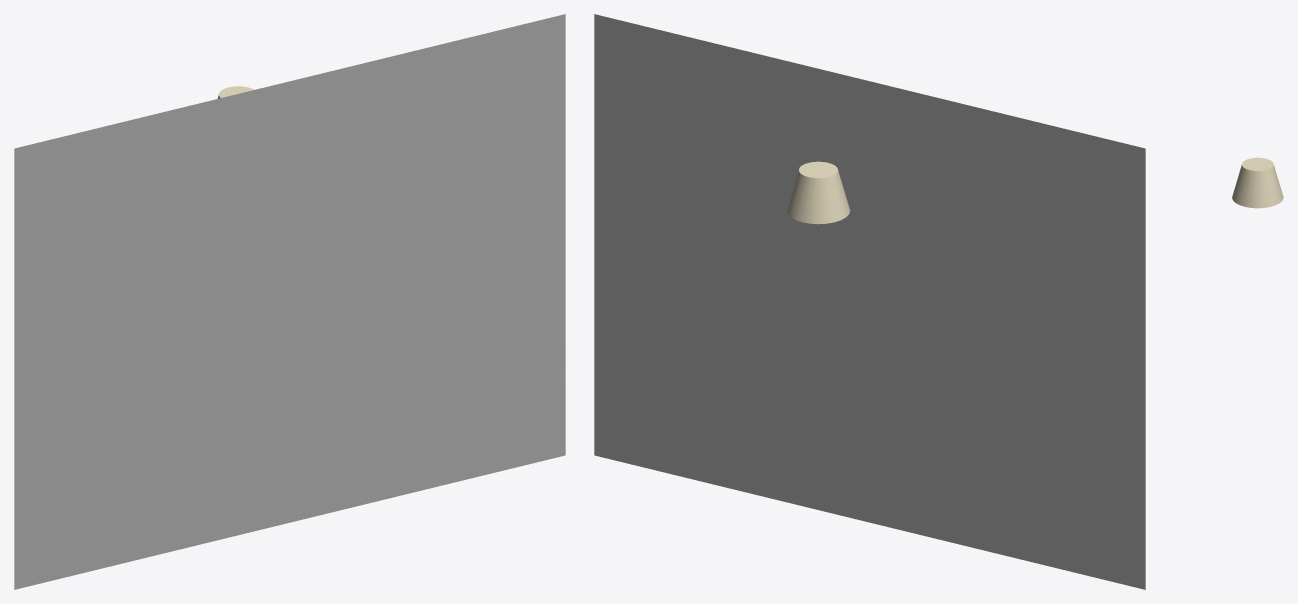
Rendered from hw_room_card_gf.glb.
3 renders of one model, left to right at view 1: azimuth 30°, elevation 25°; view 2: azimuth 150°, elevation 25°; view 3: azimuth 270°, elevation 25°, orthographic. The views are drawn at different scales.
Parts seen in each view (by area): view 1: room__card_gf; view 2: room__card_gf, pendant__shade_gf; view 3: pendant__shade_gf.
Part boxes in pixels (bbox=[...]): room__card_gf: bbox=[14, 14, 565, 589]; room__card_gf: bbox=[594, 14, 1145, 589]; pendant__shade_gf: bbox=[786, 161, 850, 224]; pendant__shade_gf: bbox=[1232, 157, 1283, 208].
Bounding box in the file's own units: 3.4 × 2.6 × 0.72.
